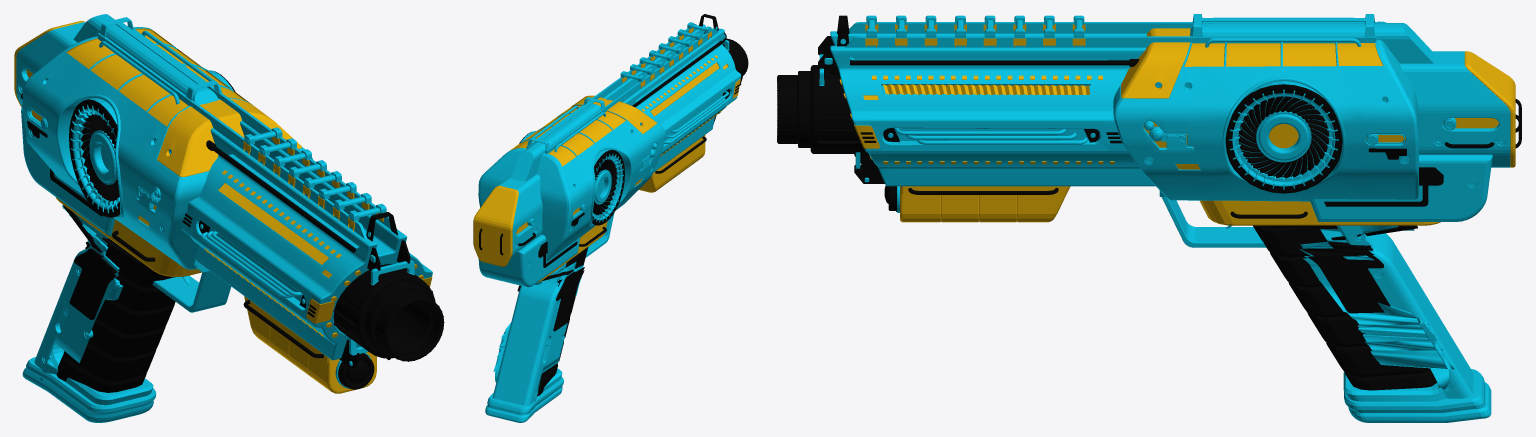
3 renders of one model, left to right at view 1: azimuth 30°, elevation 25°; view 2: azimuth 150°, elevation 25°; view 3: azimuth 270°, elevation 25°, orthographic. The views are drawn at different scales.
Parts seen in each view (by area): view 1: Gun; view 2: Gun; view 3: Gun.
Boxes of the visible parts, bbox=[...] form: Gun: bbox=[14, 14, 444, 422]; Gun: bbox=[473, 14, 748, 422]; Gun: bbox=[777, 14, 1521, 422].
Bounding box in the file's own units: 288 × 732 × 1268.
